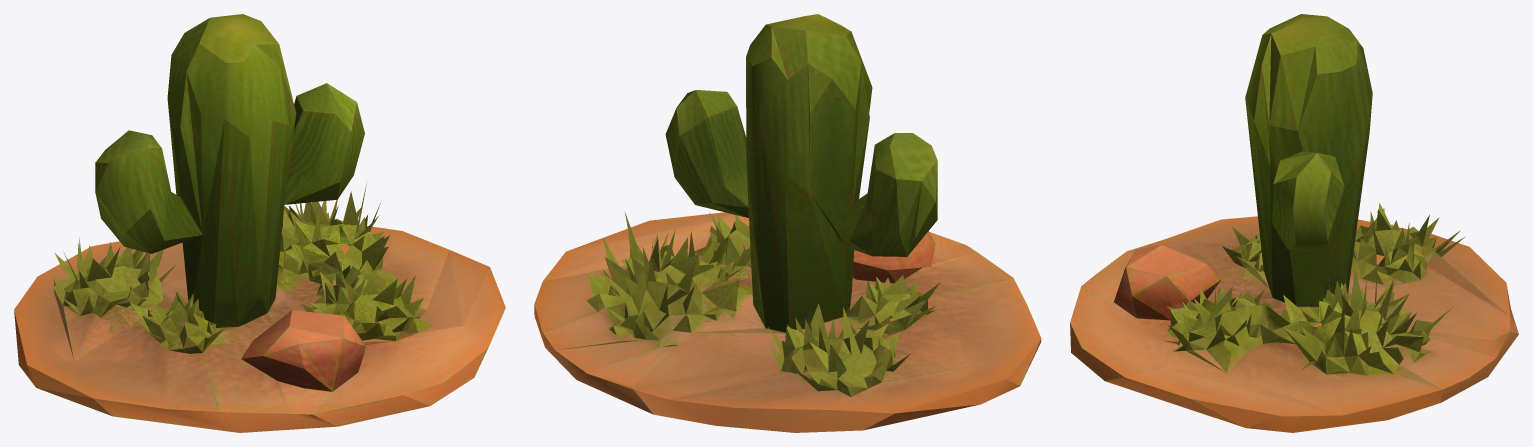
Rendered from west_cactus_a.glb.
3 renders of one model, left to right at view 1: azimuth 30°, elevation 25°; view 2: azimuth 150°, elevation 25°; view 3: azimuth 270°, elevation 25°, orthographic. The views are drawn at different scales.
Parts seen in each view (by area): view 1: mesh_node; view 2: mesh_node; view 3: mesh_node.
Boxes of the visible parts, x1=… form: mesh_node: x1=14, y1=14, x2=505, y2=432; mesh_node: x1=534, y1=14, x2=1041, y2=432; mesh_node: x1=1070, y1=14, x2=1518, y2=432.
Size of the model in its own units: 1.9 by 1.27 by 1.73.
1 material, 1 textured.
